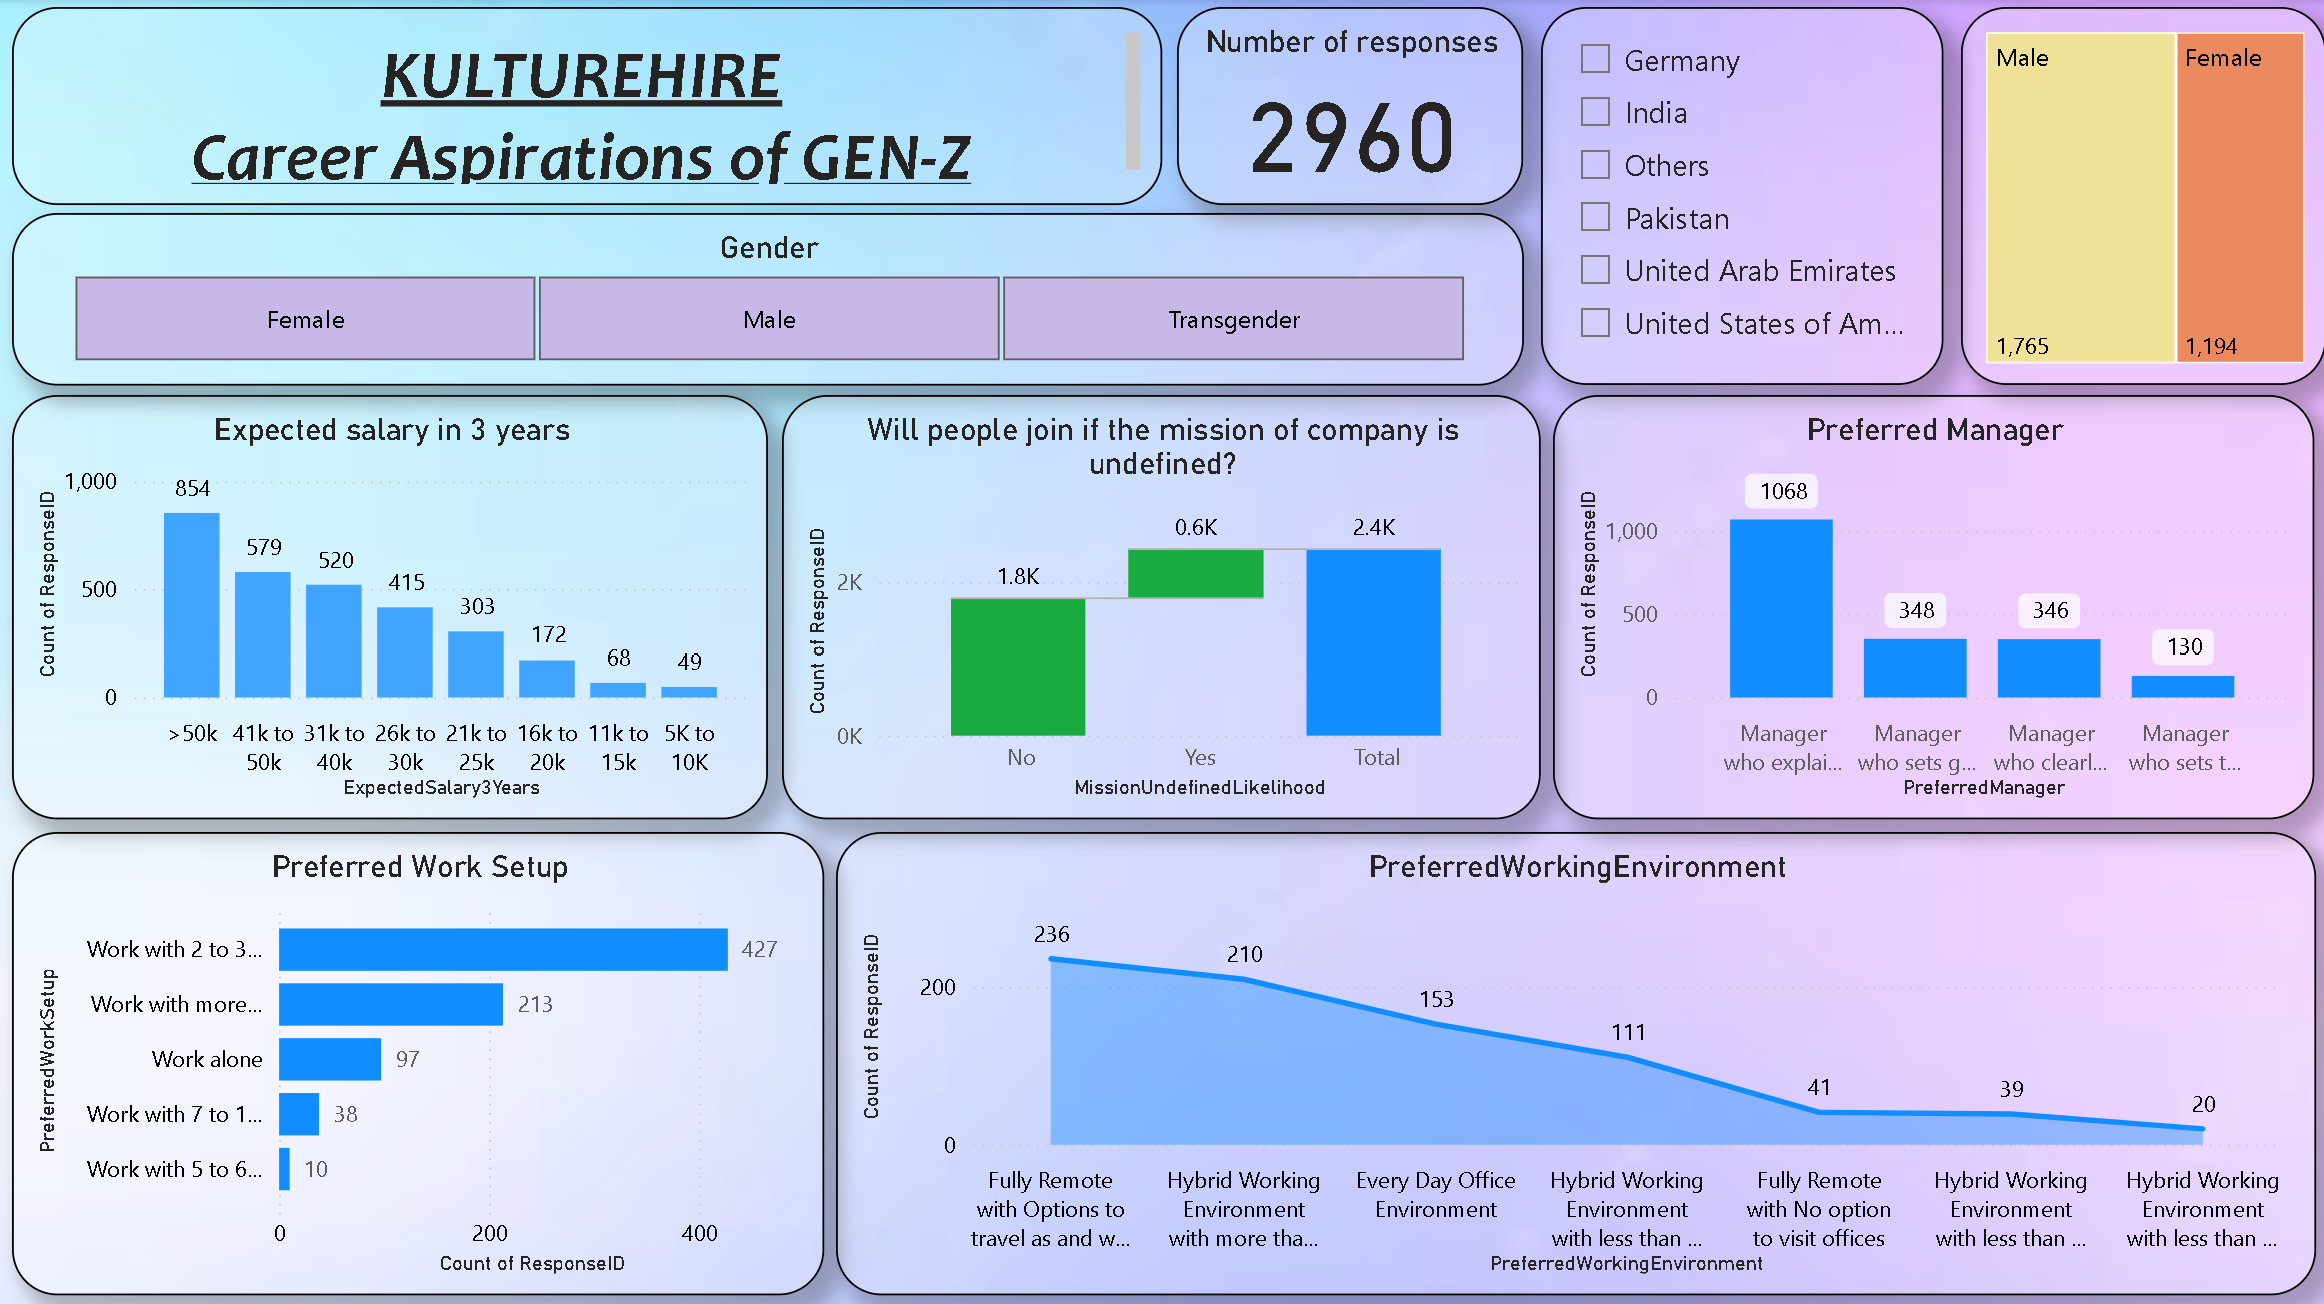

The dashboard page shown, as its layout file describes it:
{"tool":"powerbi","page":{"name":"Genz_dashboard","canvas":[1280,720],"ordinal":0},"visuals":[{"type":"card","title":"Number of responses","fields":{"Values":["CountNonNull(genzdataset personalized_info.ResponseID)"]},"box":[647.4,4.4,190.4,108.9],"z":0},{"type":"columnChart","title":"Expected salary in 3 years","fields":{"Category":["genzdataset mission_aspirations.ExpectedSalary3Years"],"Y":["CountNonNull(genzdataset personalized_info.ResponseID)"]},"box":[6.2,217.9,416.2,232.9],"z":1000},{"type":"clusteredBarChart","title":"Preferred Work Setup","fields":{"Category":["genzdataset manager_aspirations.PreferredWorkSetup"],"Y":["CountNonNull(genzdataset personalized_info.ResponseID)"]},"box":[6.2,457.9,447.2,255.1],"z":2000},{"type":"treemap","fields":{"Values":["CountNonNull(genzdataset personalized_info.ResponseID)"],"Group":["genzdataset personalized_info.Gender"]},"box":[1078.7,4.4,201,208.1],"z":3000},{"type":"slicer","title":"Country","fields":{"Values":["genzdataset personalized_info.CurrentCountry"]},"box":[847.5,4.4,221.4,208.1],"z":4000},{"type":"areaChart","title":"PreferredWorkingEnvironment","fields":{"Y":["CountNonNull(genzdataset manager_aspirations.ResponseID)"],"Category":["genzdataset learning_aspirations.PreferredWorkingEnvironment"]},"box":[459.6,457.9,813.9,255.1],"z":5000},{"type":"lineClusteredColumnComboChart","title":"Preferred Manager","fields":{"Category":["genzdataset manager_aspirations.PreferredManager"],"Y":["CountNonNull(genzdataset personalized_info.ResponseID)"]},"box":[854.6,217.9,418.9,232.9],"z":6000},{"type":"slicer","title":"Gender","fields":{"Values":["genzdataset personalized_info.Gender"]},"box":[6.2,117.8,831.6,94.8],"z":7000},{"type":"textbox","box":[6.2,4.4,633.2,108.9],"z":8000},{"type":"waterfallChart","title":"Will people join if the mission of company is undefined?","fields":{"Category":["genzdataset mission_aspirations.MissionUndefinedLikelihood"],"Y":["CountNonNull(genzdataset personalized_info.ResponseID)"]},"box":[430.4,217.9,417.1,232.9],"z":9000}]}

Visuals, with their boxes in screenshot pixels (x1, y1, x2, y2), scaled from the page's 1280x720 canvas onto the 2324x1304 screenshot:
"Number of responses" card: [left=1175, top=8, right=1521, bottom=205]
"Expected salary in 3 years" columnChart: [left=11, top=395, right=767, bottom=816]
"Preferred Work Setup" clusteredBarChart: [left=11, top=829, right=823, bottom=1291]
treemap - CountNonNull(genzdataset personalized_info.ResponseID) x genzdataset personalized_info.Gender: [left=1959, top=8, right=2323, bottom=385]
"Country" slicer: [left=1539, top=8, right=1941, bottom=385]
"PreferredWorkingEnvironment" areaChart: [left=834, top=829, right=2312, bottom=1291]
"Preferred Manager" lineClusteredColumnComboChart: [left=1552, top=395, right=2312, bottom=816]
"Gender" slicer: [left=11, top=213, right=1521, bottom=385]
textbox: [left=11, top=8, right=1161, bottom=205]
"Will people join if the mission of company is undefined?" waterfallChart: [left=781, top=395, right=1539, bottom=816]
